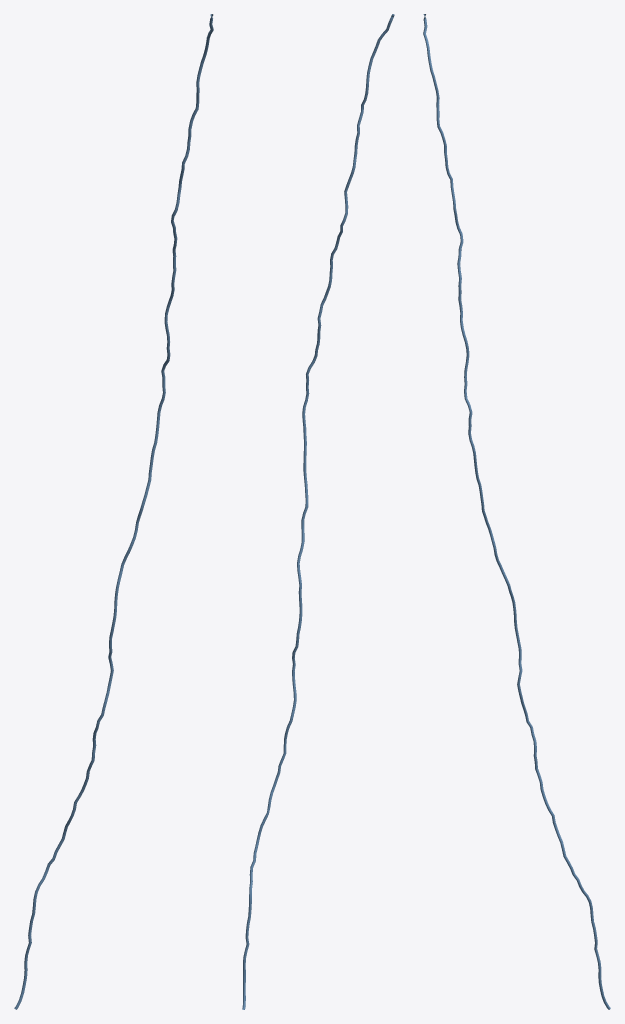
The model's file is sweep35.fbx.
The picture shows the model from 3 angles, left to right: view 1: azimuth 90°, elevation 25°; view 2: azimuth 150°, elevation 25°; view 3: azimuth 270°, elevation 25°; orthographic projection. The views are drawn at different scales.
Parts seen in each view (by area): view 1: sweep35; view 2: sweep35; view 3: sweep35.
Boxes of the visible parts, box(x1,y1,x2,y2) form: sweep35: box(14, 14, 213, 1009); sweep35: box(242, 14, 394, 1009); sweep35: box(423, 14, 610, 1009).
Bounding box in the file's own units: 0.5517 × 7.21 × 1.27.
